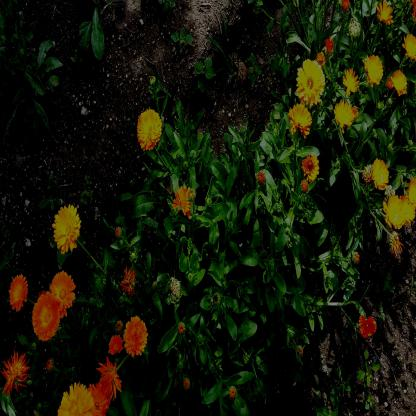marigold: (298, 60, 324, 108), (53, 207, 81, 250), (32, 296, 60, 338), (50, 272, 75, 312), (58, 384, 88, 416), (124, 316, 148, 356), (137, 108, 162, 146), (383, 193, 403, 229), (102, 363, 122, 397), (173, 187, 194, 219), (10, 277, 28, 312), (335, 100, 356, 128), (88, 384, 106, 416), (365, 53, 383, 84), (291, 106, 311, 133), (372, 158, 388, 189), (359, 313, 378, 339), (301, 155, 318, 179), (392, 69, 407, 95), (343, 68, 358, 92), (378, 1, 392, 26), (403, 35, 415, 59), (403, 196, 414, 222), (108, 335, 123, 354), (409, 180, 416, 204), (317, 49, 325, 65)
